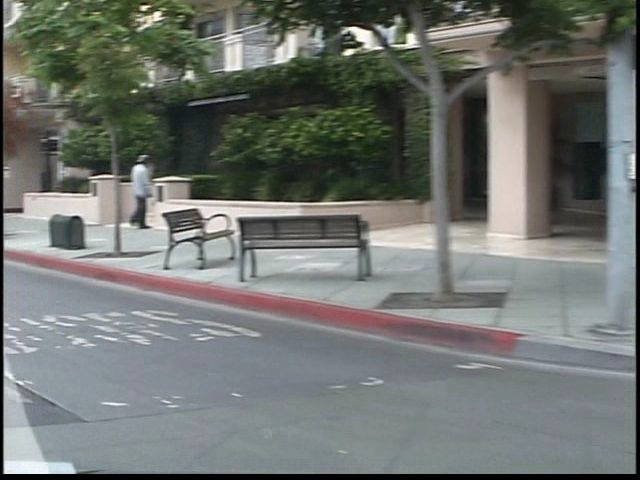person: (109, 151, 148, 240)
